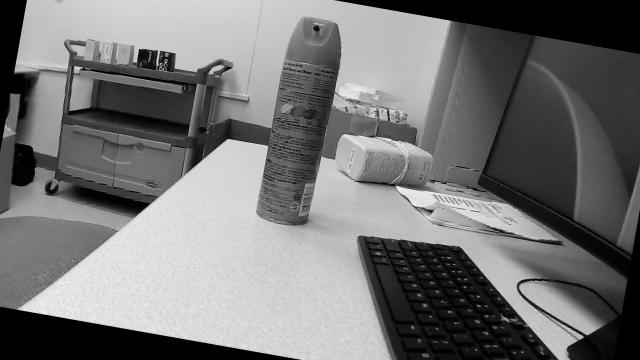Pledge: (255, 16, 342, 226)
